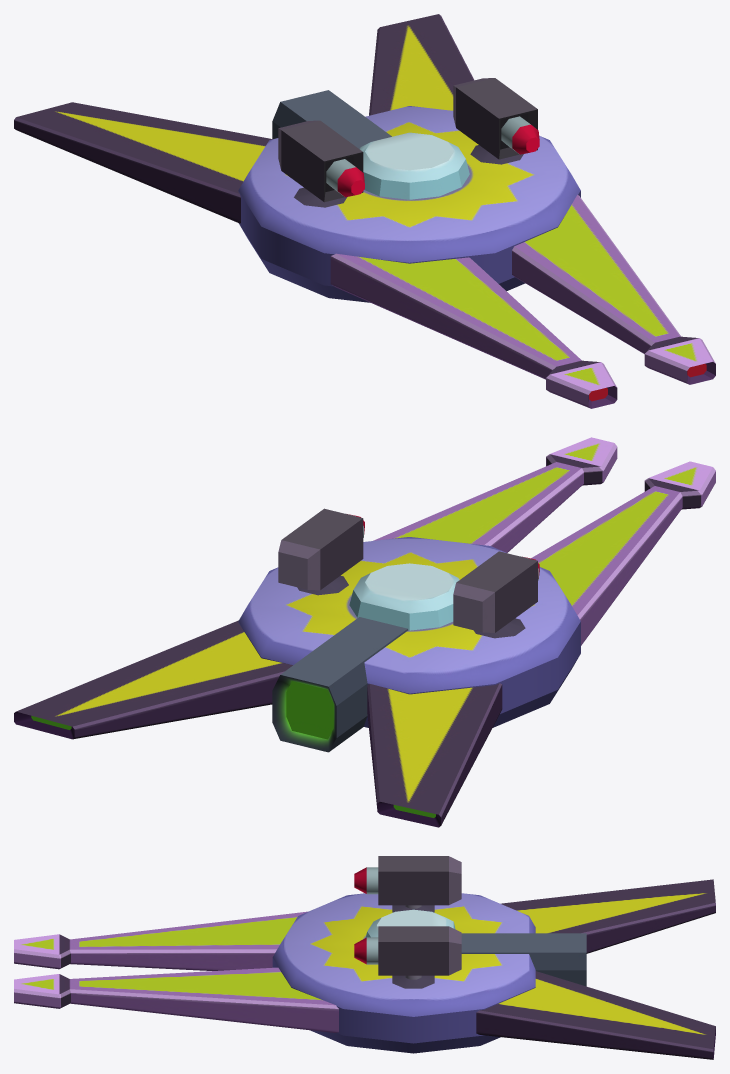
The model's file is Rocker.fbx.
3 renders of one model, top to bottom at view 1: azimuth 30°, elevation 25°; view 2: azimuth 150°, elevation 25°; view 3: azimuth 270°, elevation 25°, orthographic. The views are drawn at different scales.
Parts seen in each view (by area): view 1: Body; view 2: Body; view 3: Body.
Part boxes in pixels (bbox=[...]): Body: bbox=[14, 14, 715, 408]; Body: bbox=[14, 437, 715, 827]; Body: bbox=[14, 856, 715, 1059].
Bounding box in the file's own units: 667 × 178 × 1154.
2 materials, 2 textured.
